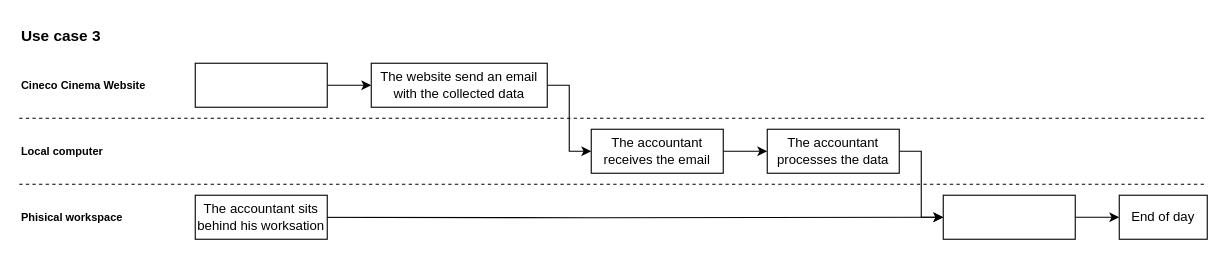
This 1228x259 diagram has some shape labels left out. The centre of each missing label's shape, as x and y in pixels:
The accountant closes his workstation: the point at 1008,216
The website collects the data of the day: the point at 260,84
